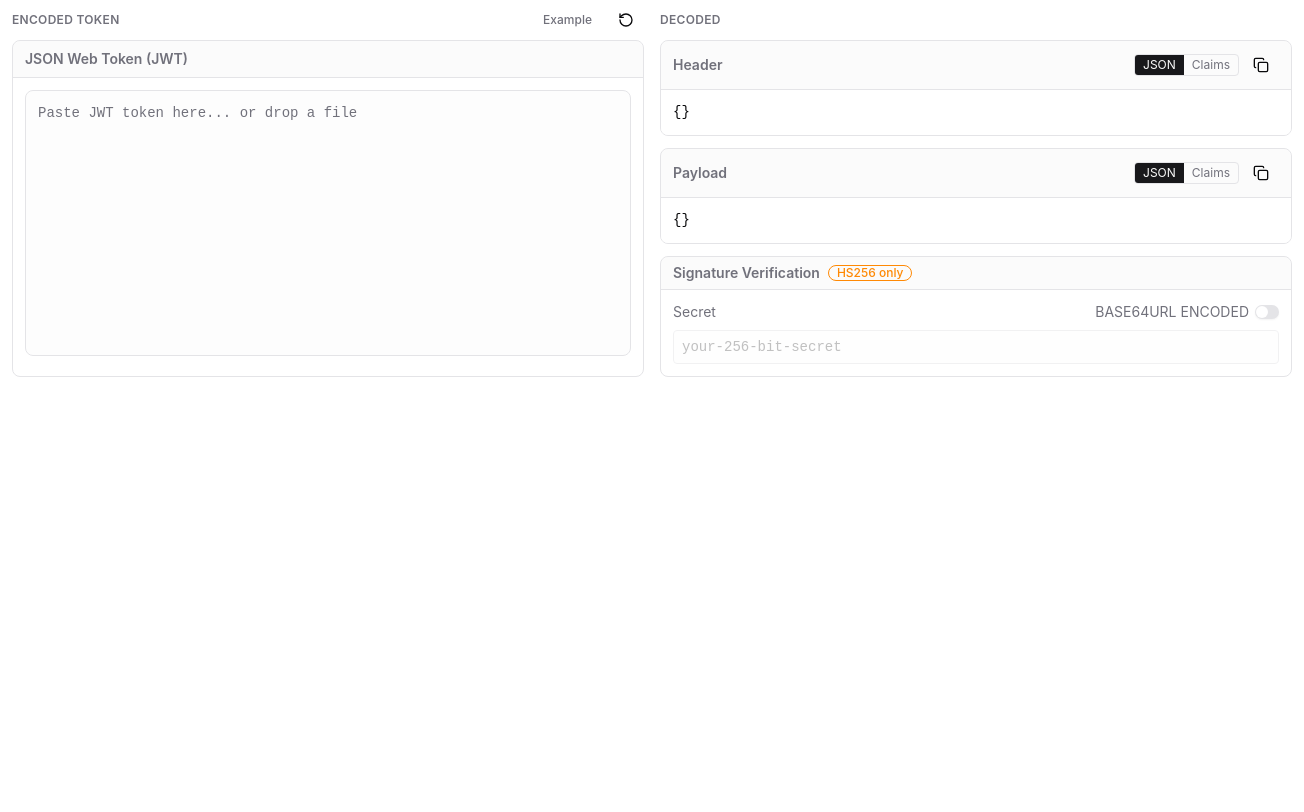
Test: wraps decoded payload for long string values
Type "eyJhbGciOiJIUzI1NiIsInR5cCI6IkpXVCJ9.eyJzdWIiOiIxMjM0NTY3ODkwIiwibmFtZSI6IkpvaG4gRG9lMzMzMzMzMzMzMzMzMzMzMzMzMzMzMzMzMzMzMzMzMzMzMzMzMzMzMzMzMzMzMzMzMzMzMzMzMzMzMzMzMzMzMzMzMzMzMzMzMzMzMzMzMzMzMzMzMzM" into the text box named "Encoded JWT token". click: (328,223)
box: [26,91,630,355]
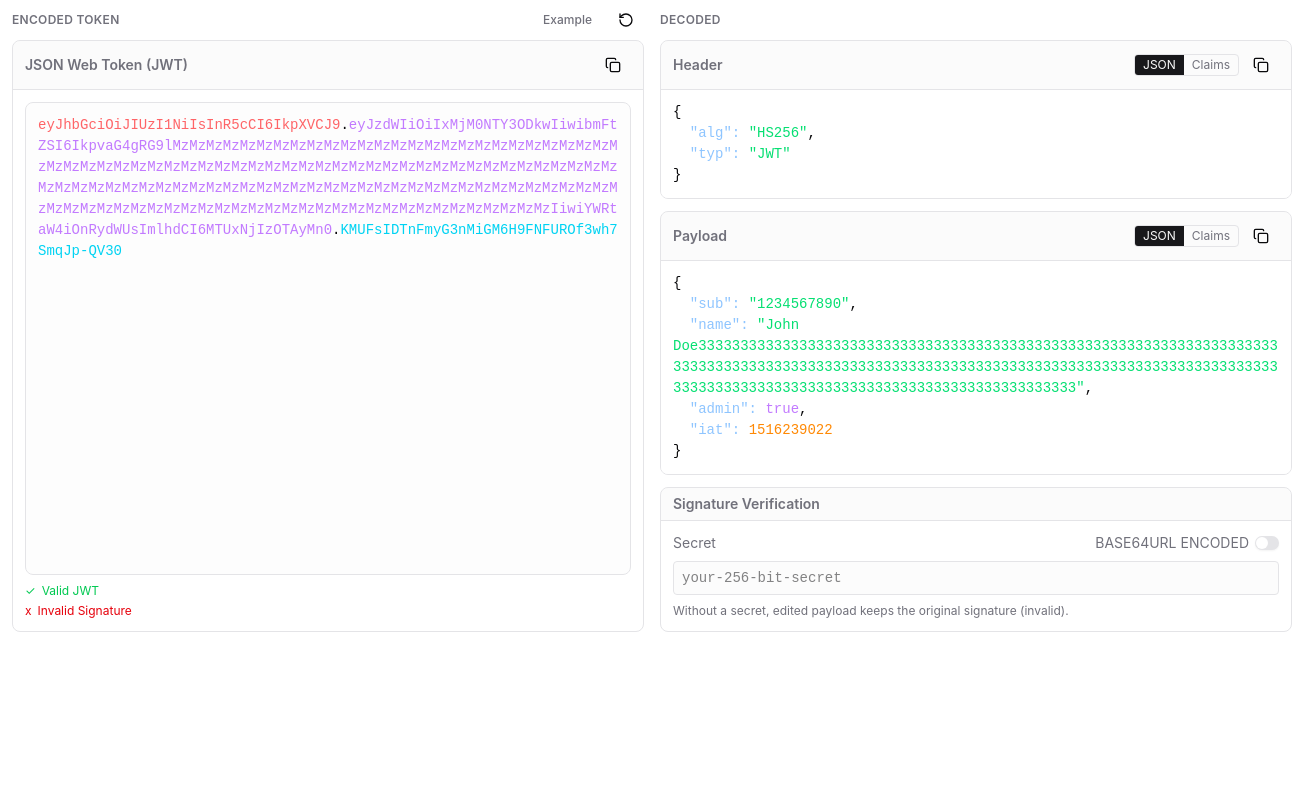
expect the element named "Edit JWT payload JSON" is shown: met, box [660,211,1292,475]
expect the text "Valid JWT" is shown: met, box [42,583,99,599]
